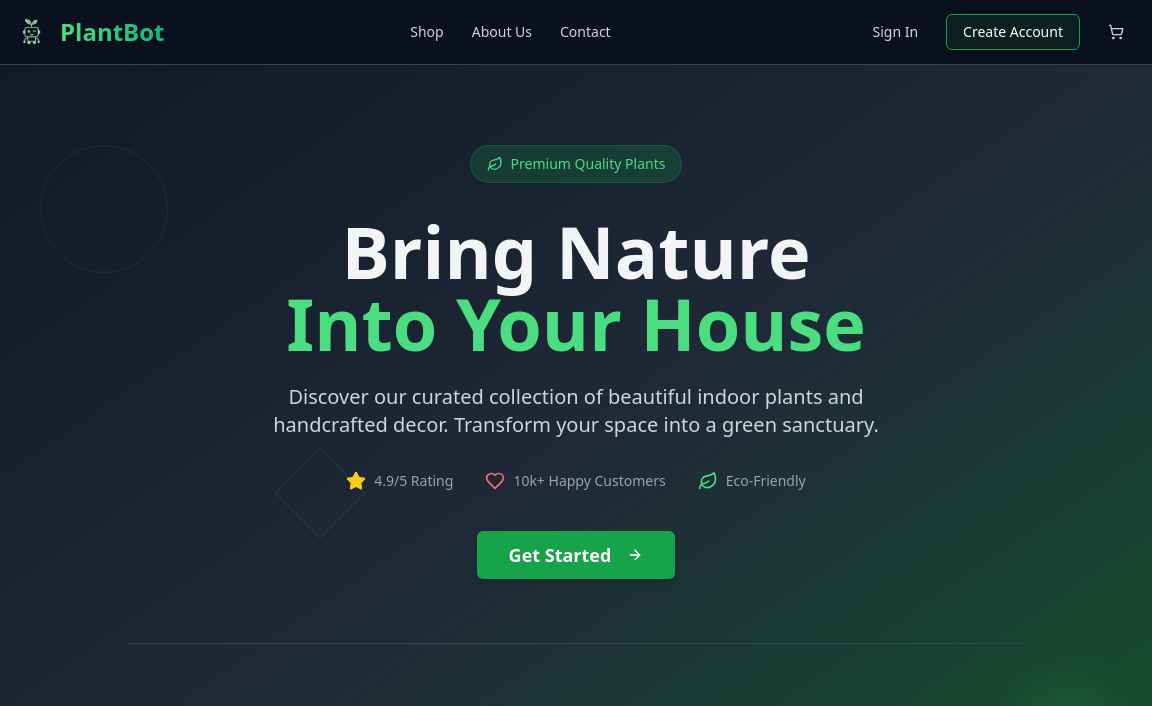
Test: PlantBot redirection Test cases › TC-4: Validate to check if clicking on Contact from navbar redirects the user to Contact Us page
What coordinates should you click on to do the following:
click the button "Contact"
I would click on:
 (586, 32)
Its box is [548, 14, 623, 50].
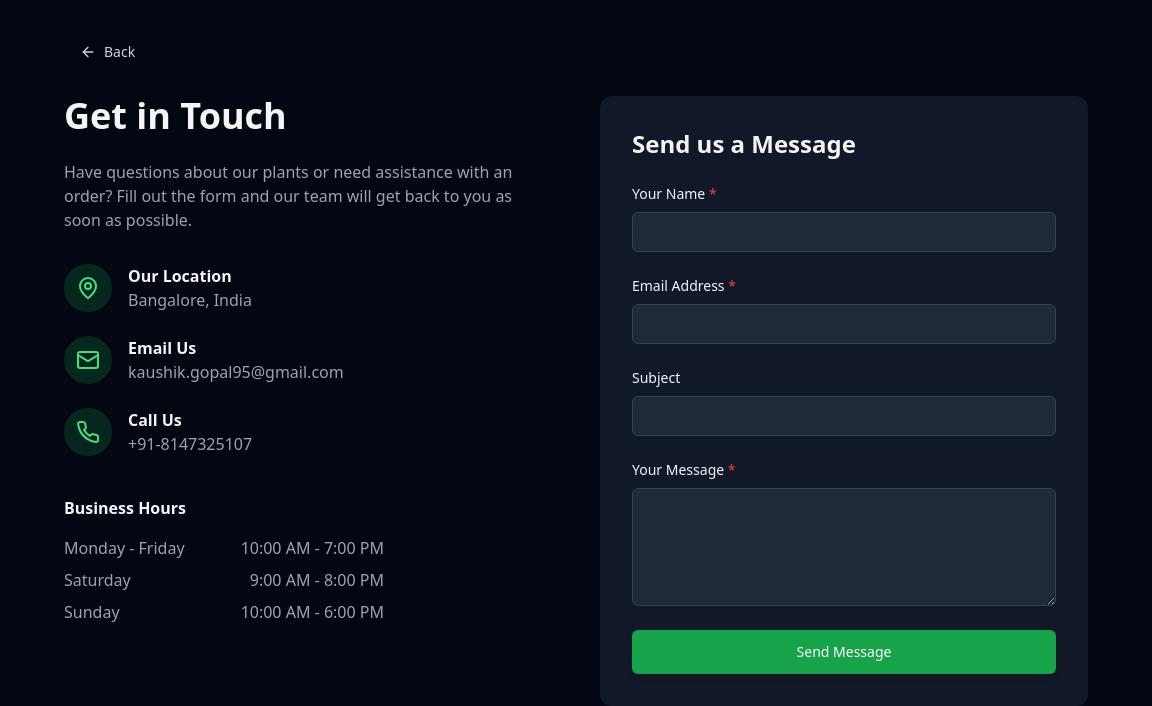
Result: the heading "Get in Touch" is shown at [64, 91, 287, 140]
